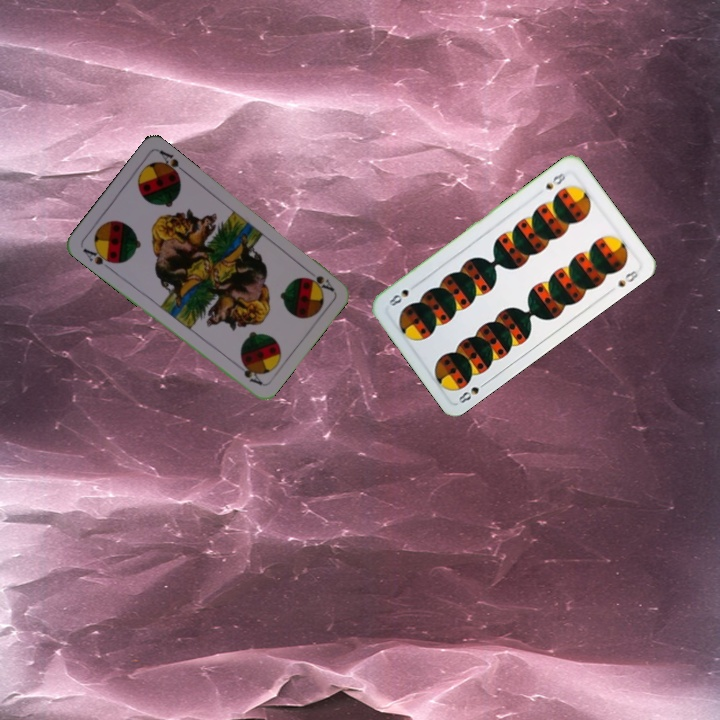S8: (454, 377, 491, 408), (541, 166, 572, 192)
SA: (79, 244, 117, 272), (302, 265, 337, 294)
